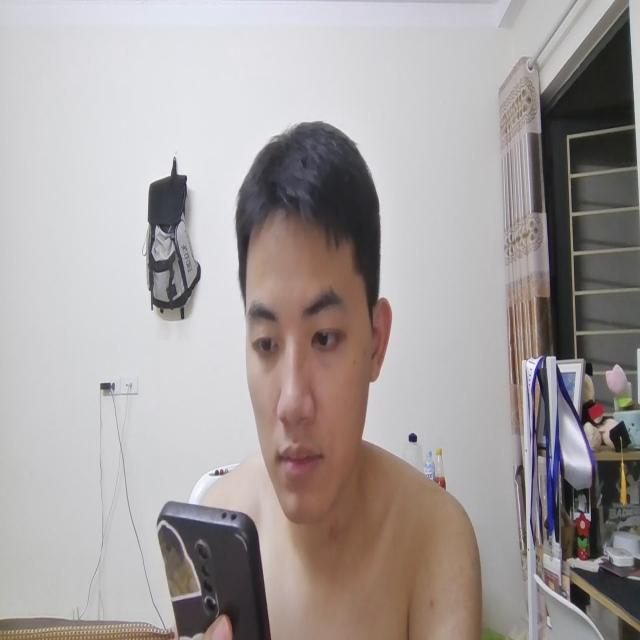phone: (146, 472, 276, 640)
student: (225, 120, 479, 640)
